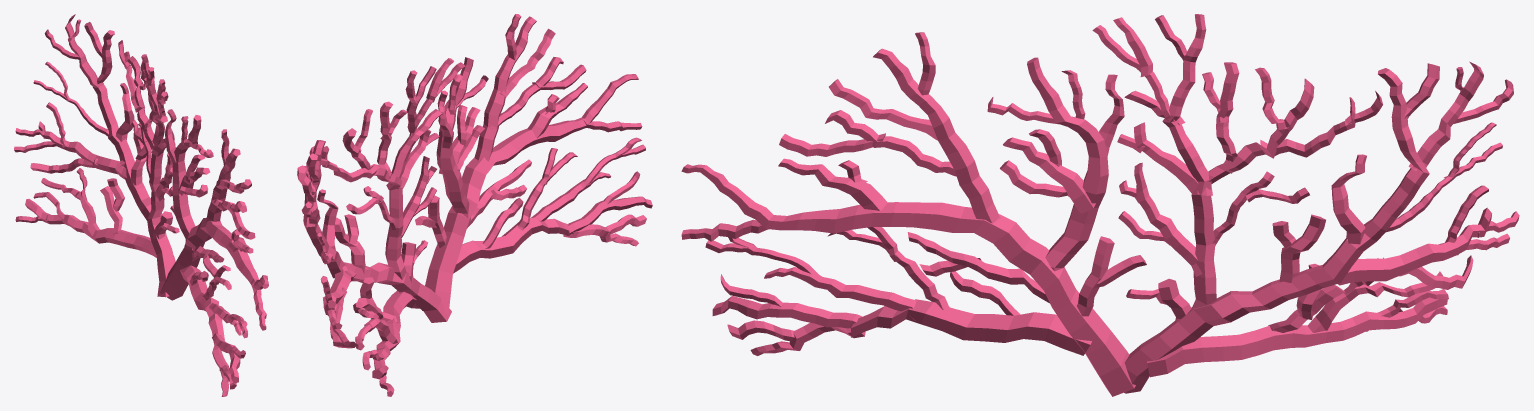
File: Coral.obj
The picture shows the model from 3 angles, left to right: view 1: azimuth 30°, elevation 25°; view 2: azimuth 150°, elevation 25°; view 3: azimuth 270°, elevation 25°; orthographic projection. The views are drawn at different scales.
Visible parts, largest first — view 1: group1533979519; view 2: group1533979519; view 3: group1533979519.
Part boxes in pixels (box(x1,y1,x2,y2)): group1533979519: box(14, 14, 268, 396); group1533979519: box(297, 14, 652, 396); group1533979519: box(681, 14, 1519, 396).
Size of the model in its own units: 0.519 by 1.25 by 2.46.
